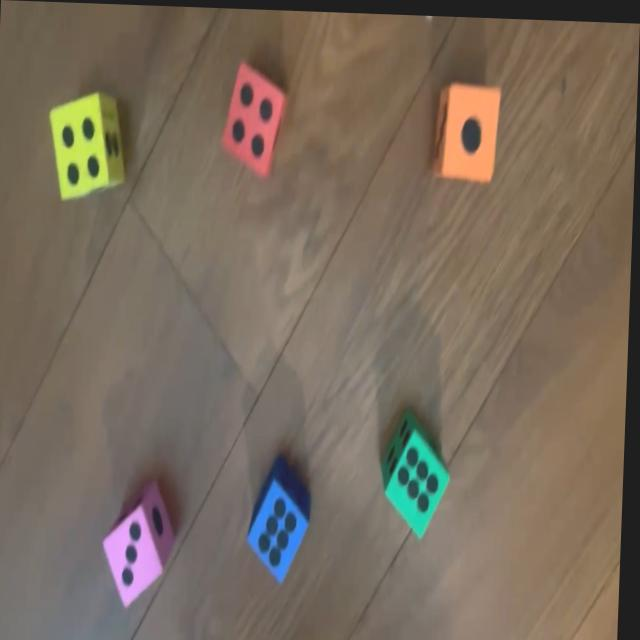cube: (383, 405, 455, 537), (249, 453, 315, 584), (220, 62, 287, 177)
